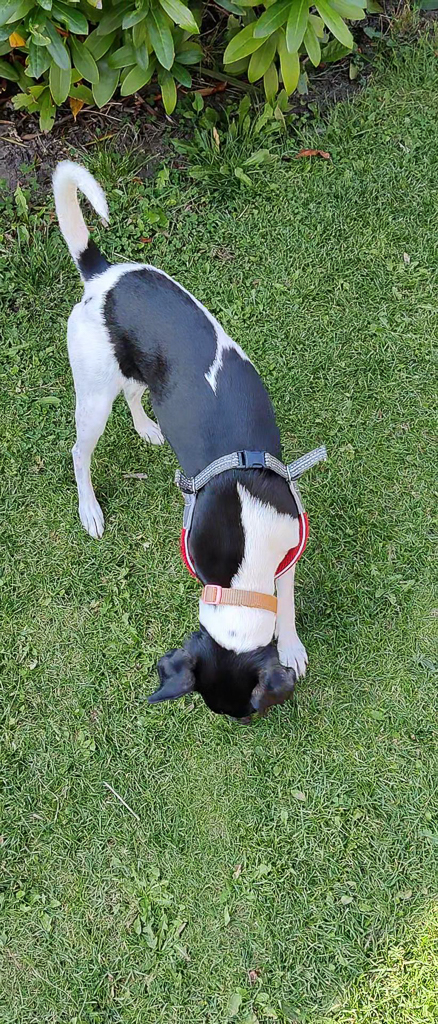Dog: (30, 147, 354, 740)
